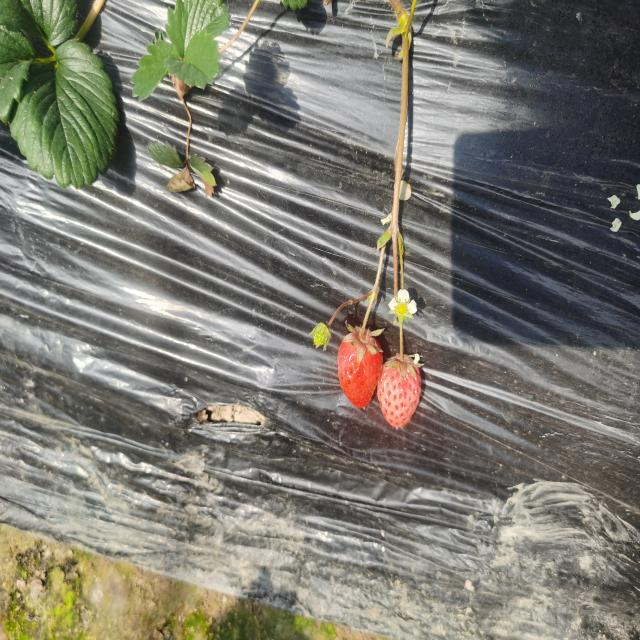stem: (359, 298, 374, 343), (400, 328, 405, 363)
strawberry: (338, 329, 383, 409), (377, 354, 421, 427)
